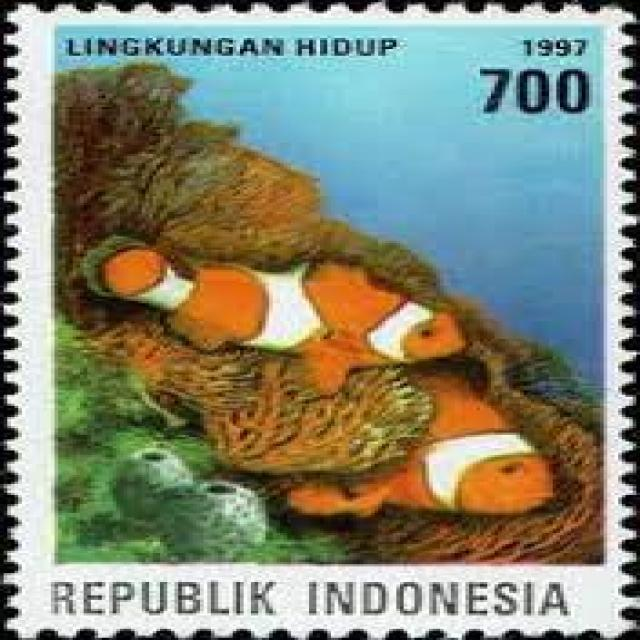ClownFish: (76, 234, 474, 388), (273, 373, 563, 528)
